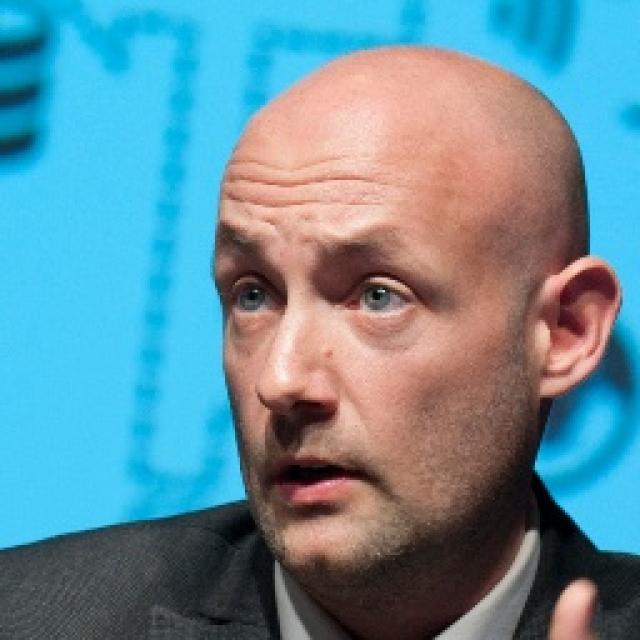earlobe: (534, 256, 622, 402)
